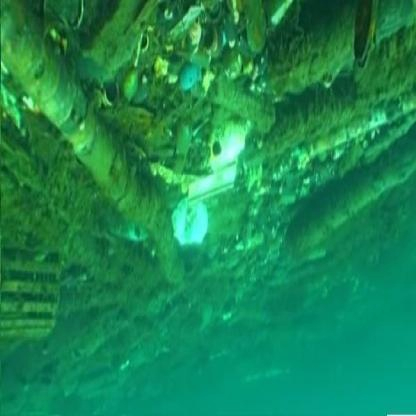misc: (184, 95, 235, 240)
rod: (1, 2, 170, 192), (259, 23, 416, 178), (300, 124, 416, 283)
